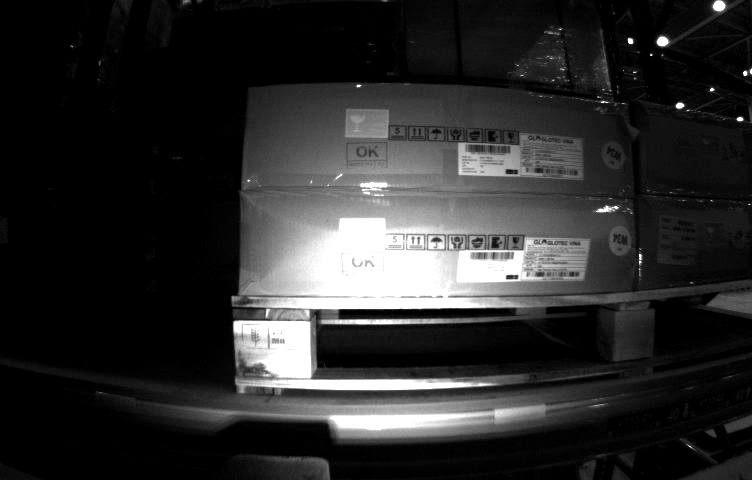True Barcode: (656, 214, 696, 267)
